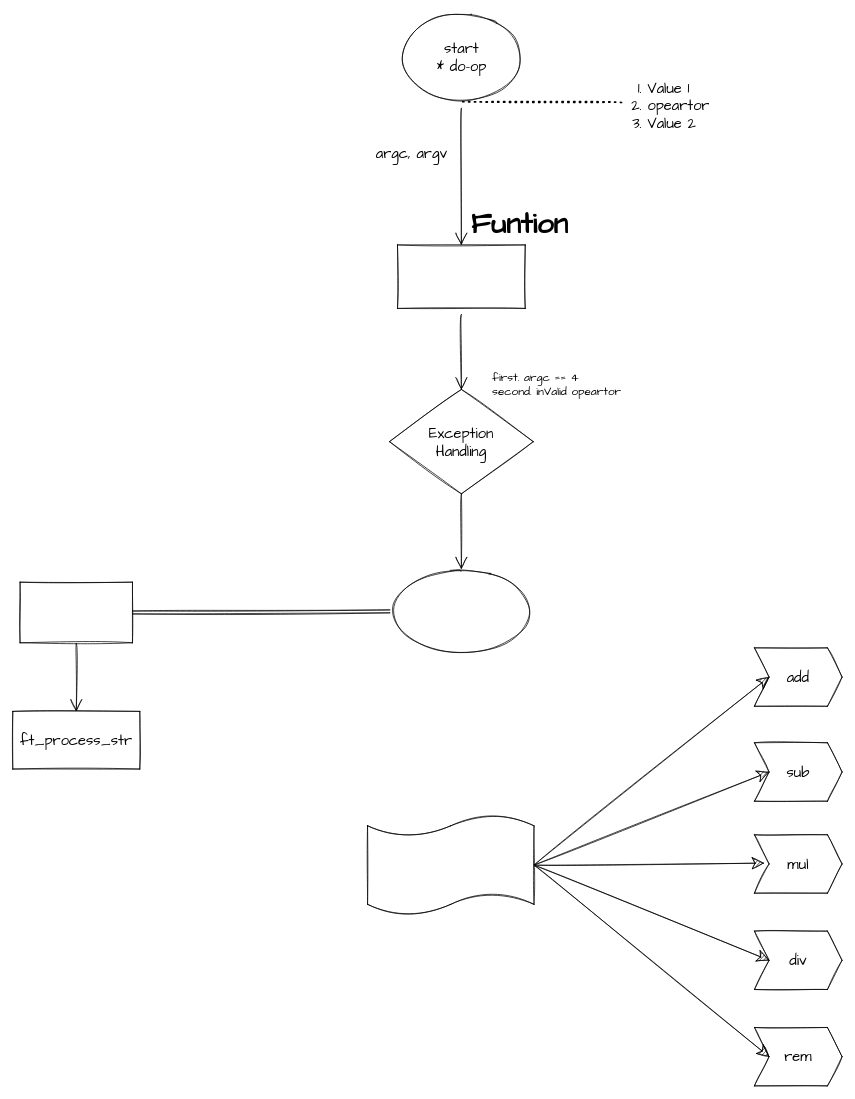
Some shapes in this 855 by 1099 pixel diagram are drawn without their labels. The centre of each missing label's shape, as x and y in pixels:
"ASCII to INTEGER" goes at point 461,611.
"atoi" goes at point 75,612.
"check-operator" goes at point 450,864.
"main.c" goes at point 461,276.
